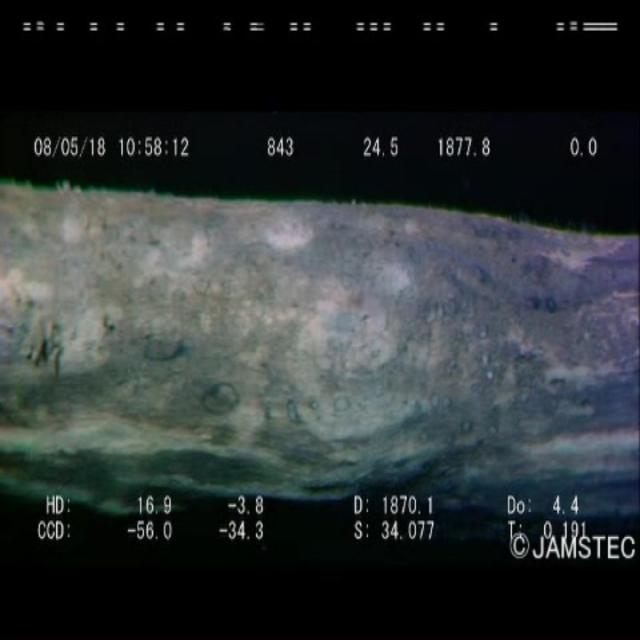Wood: (0, 166, 640, 540)
